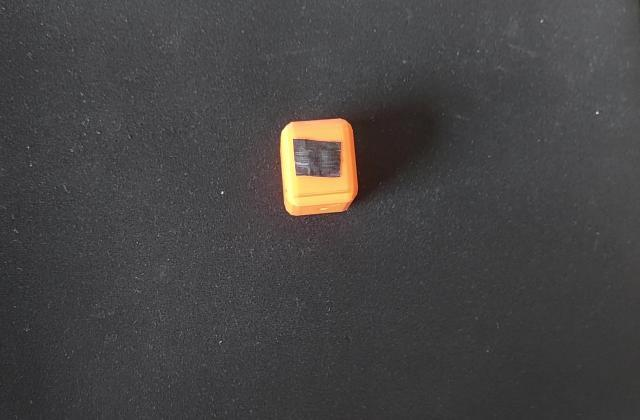black: (288, 135, 348, 184)
sticker: (274, 115, 361, 222)
